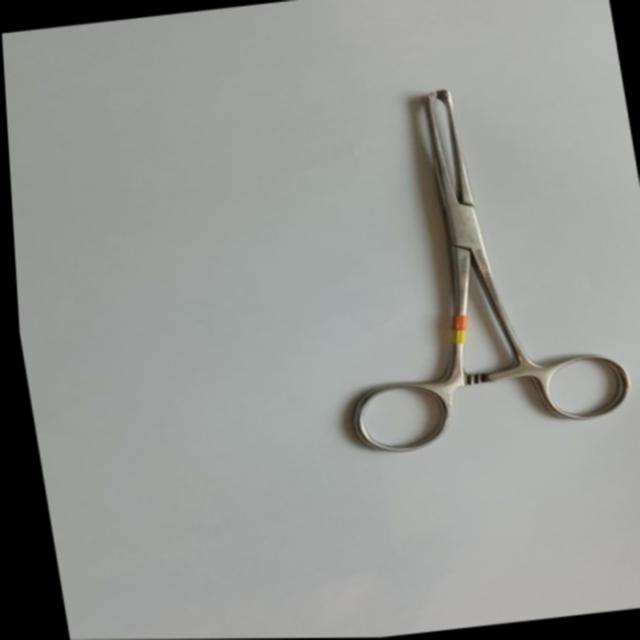AllisForcep: (292, 70, 638, 463)
